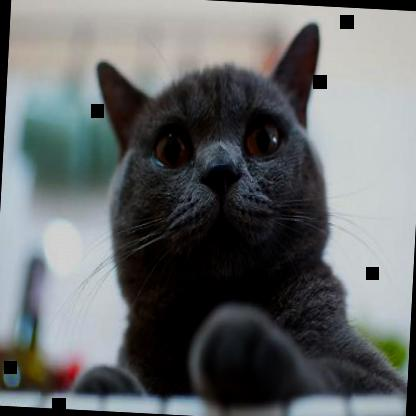cat: (73, 9, 415, 415)
